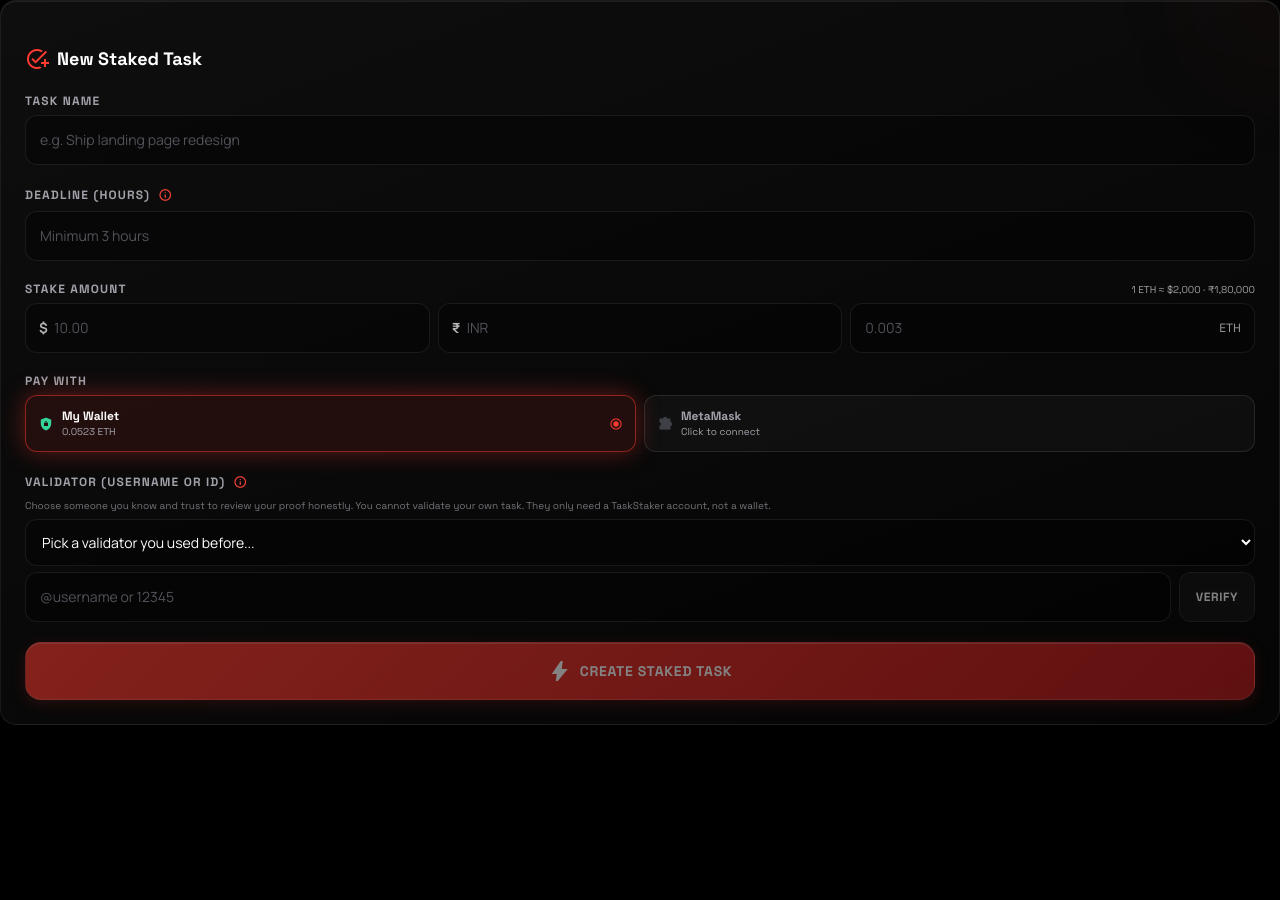
Scenario: stake amount conversion › INR box links to USD and ETH both ways
Expected: the text "1 ETH ≈ $2,000 · ₹1,80,000" is shown, left=1132, top=282, right=1255, bottom=296
Type "900" into the number field with placeholder "INR".
click(640, 328); type("900")  # box left=438, top=303, right=842, bottom=353
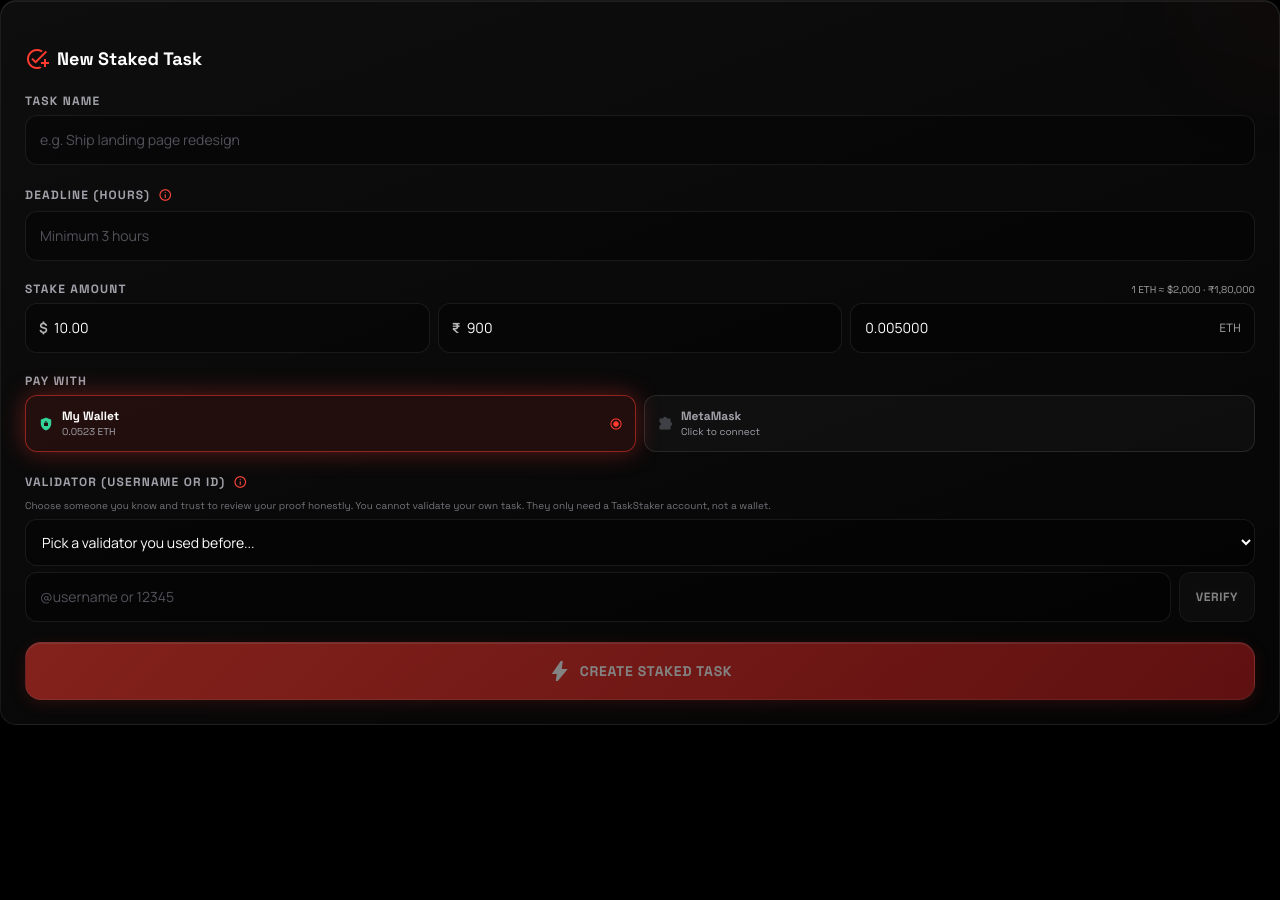
Expected: the 1st number field with placeholder "10.00" holds "10.00"
Expected: the 3rd number field with placeholder "0.003" holds "0.005000", left=850, top=303, right=1255, bottom=353
Type "20" into the 1st number field with placeholder "10.00".
click(227, 328); type("20")  # box left=25, top=303, right=430, bottom=353
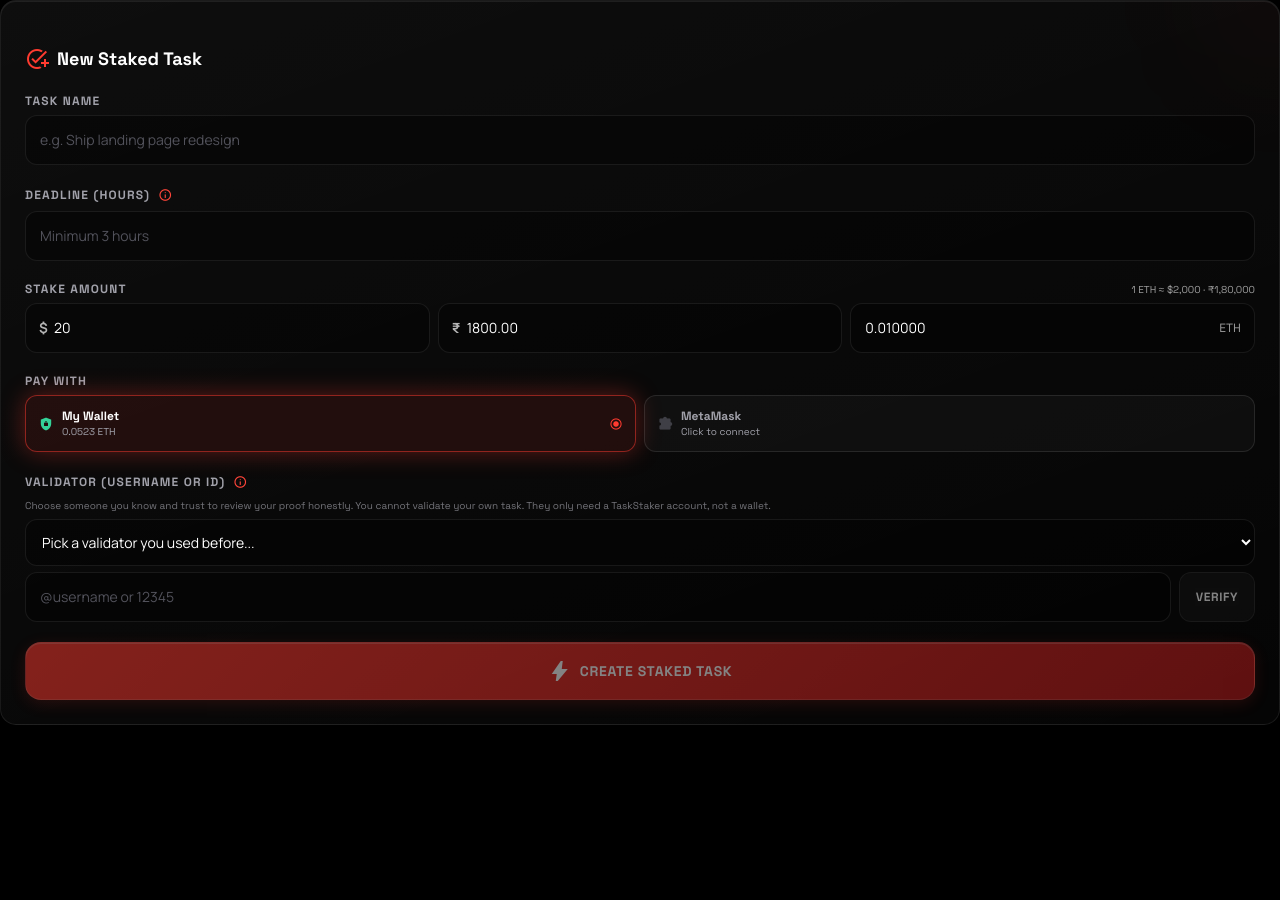
Expected: the 2nd number field with placeholder "INR" holds "1800.00", left=438, top=303, right=842, bottom=353
Replace the text in the 3rd number field with placeholder "0.003" with "0.01" at (1053, 328), box left=850, top=303, right=1255, bottom=353
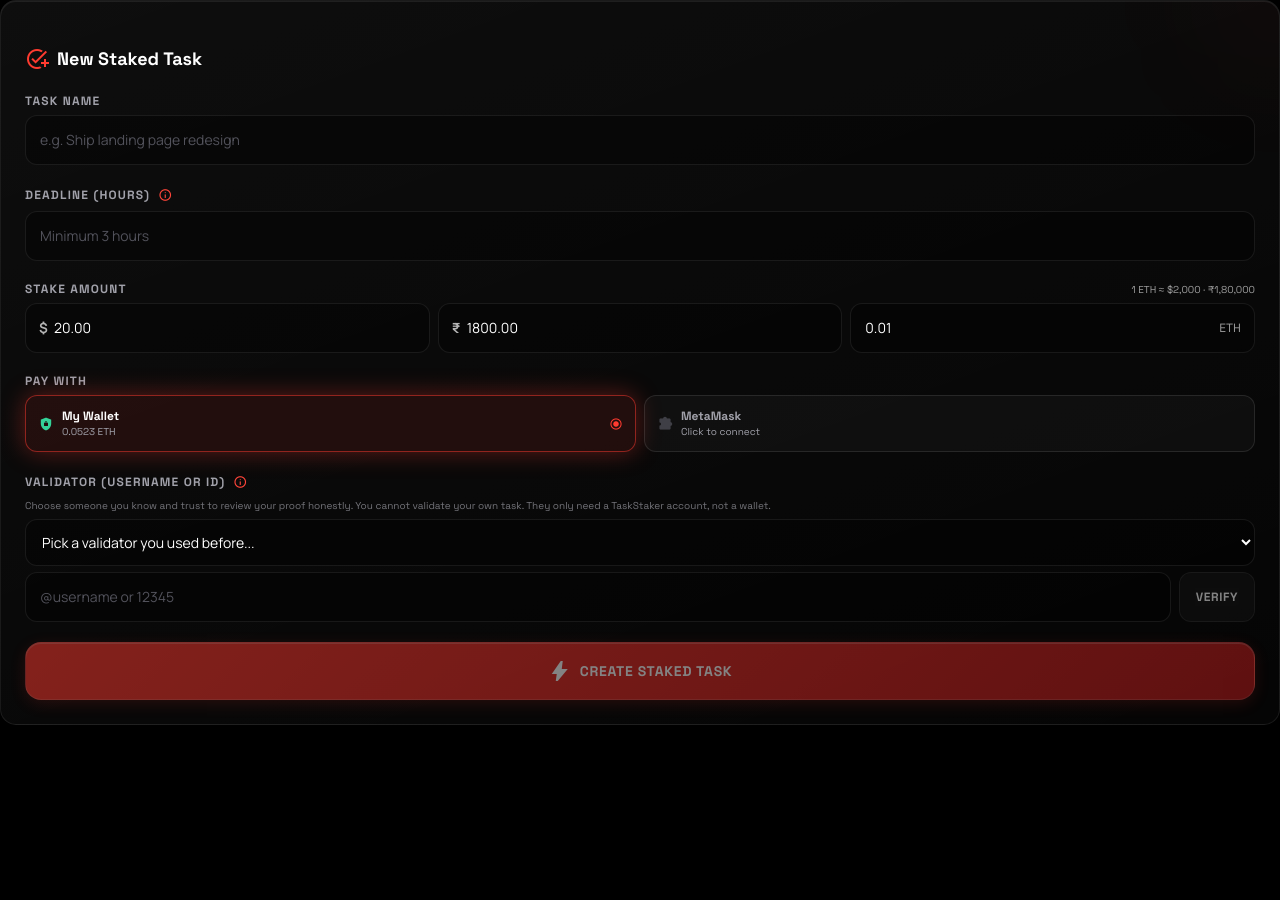
Expected: the 2nd number field with placeholder "INR" holds "1800.00", left=438, top=303, right=842, bottom=353
Expected: the 1st number field with placeholder "10.00" holds "20.00", left=25, top=303, right=430, bottom=353
